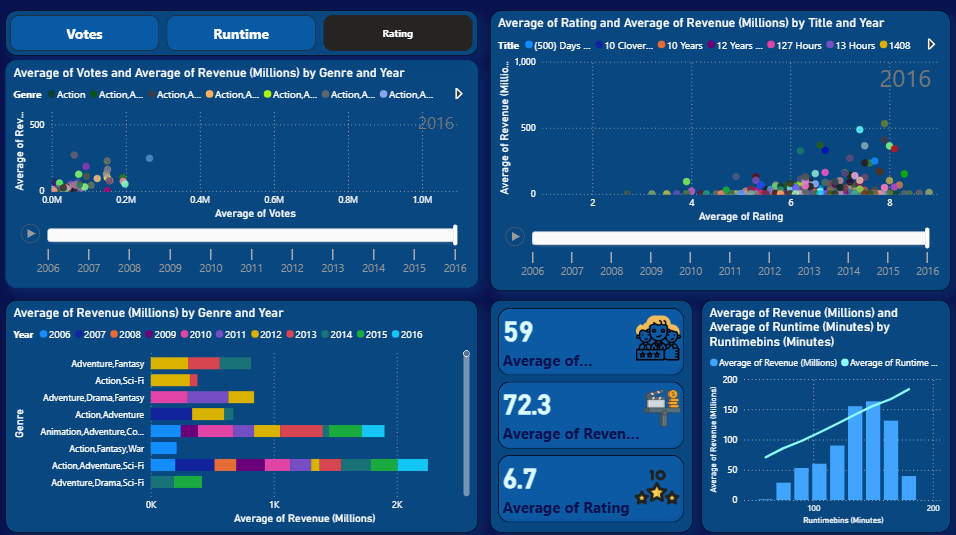

The dashboard page shown, as its layout file describes it:
{"tool":"powerbi","page":{"name":"Correlation Metrics","canvas":[1280,720],"ordinal":2},"visuals":[{"type":"lineStackedColumnComboChart","fields":{"Y":["Avg(Movie.Revenue (Millions))"],"Y2":["Avg(Movie.Runtime (Minutes))"],"Category":["Movie.Runtimebins (Minutes)"]},"box":[938.3,400,331.7,310],"z":0},{"type":"scatterChart","fields":{"Play":["Movie.Year"],"Series":["Movie.Title"],"X":["Avg(Movie.Rating)"],"Y":["Avg(Movie.Revenue (Millions))"]},"box":[656.9,14.3,614,373.8],"z":1000},{"type":"scatterChart","fields":{"Y":["Avg(Movie.Revenue (Millions))"],"Series":["Movie.Genre"],"Play":["Movie.Year"],"X":["Avg(Movie.Votes)"]},"box":[10,80,630,303.9],"z":1000,"group":"g1"},{"type":"barChart","fields":{"Y":["Avg(Movie.Revenue (Millions))"],"Category":["Movie.Genre"],"Series":["Movie.Year"]},"box":[10,400,630,310],"z":2000},{"type":"group","id":"g1","title":"Group 1","box":[10,80,630,305],"z":3000},{"type":"cardVisual","fields":{"Data":["Avg(Movie.Metascore)","Avg(Movie.Revenue (Millions))","Avg(Movie.Rating)"]},"box":[655,400,270,310],"z":4000},{"type":"bookmarkNavigator","box":[10,14.3,630,60],"z":5000}]}

Visuals, with their boxes in screenshot pixels (x1, y1, x2, y2), scaled from the page's 1280x720 canvas onto the 956x535 screenshot:
lineStackedColumnComboChart - Avg(Movie.Revenue (Millions)) x Avg(Movie.Runtime (Minutes)): <region>701, 297, 949, 528</region>
scatterChart - Movie.Year x Movie.Title: <region>491, 11, 949, 288</region>
scatterChart - Avg(Movie.Revenue (Millions)) x Movie.Genre: <region>7, 59, 478, 285</region>
barChart - Avg(Movie.Revenue (Millions)) x Movie.Genre: <region>7, 297, 478, 528</region>
"Group 1" group: <region>7, 59, 478, 286</region>
cardVisual - Avg(Movie.Metascore) x Avg(Movie.Revenue (Millions)): <region>489, 297, 691, 528</region>
bookmarkNavigator: <region>7, 11, 478, 55</region>
